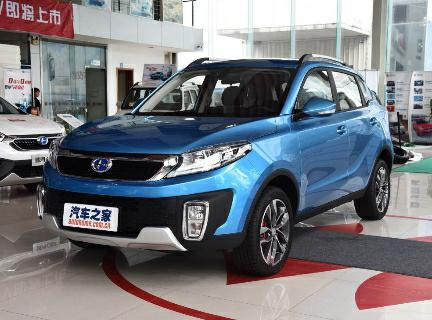昌河-Q35: (38, 52, 402, 280)
